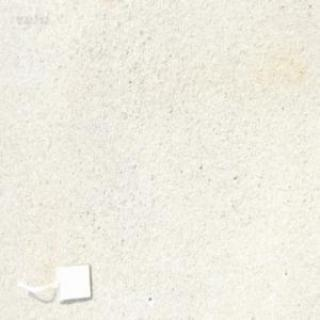LuggageTagtrack_idkeyframe: (25, 258, 92, 304)
